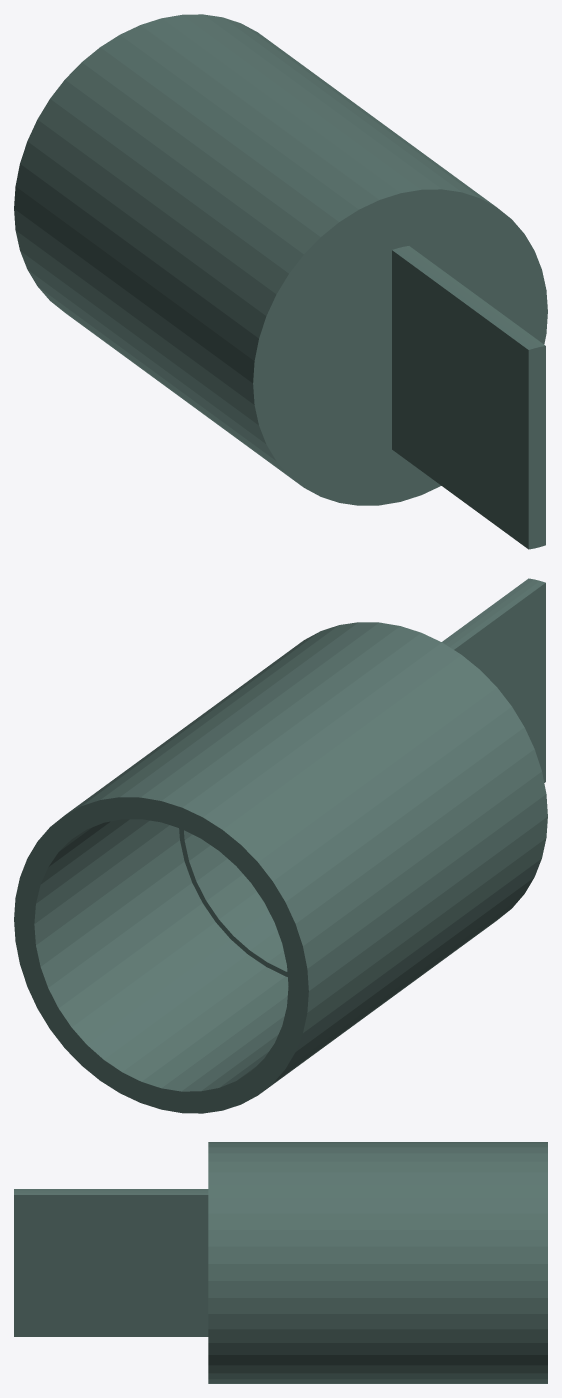
File: SRQCFPCR.glb
3 renders of one model, top to bottom at view 1: azimuth 30°, elevation 25°; view 2: azimuth 150°, elevation 25°; view 3: azimuth 270°, elevation 25°, orthographic. The views are drawn at different scales.
Visible parts, largest first — view 1: 20750046; view 2: 20750046; view 3: 20750046.
Part boxes in pixels (left/top/right/bottom): 20750046: left=14, top=14, right=547, bottom=549; 20750046: left=14, top=578, right=547, bottom=1113; 20750046: left=14, top=1142, right=547, bottom=1383.
Bounding box in the file's own units: 0.453 × 0.453 × 1.
